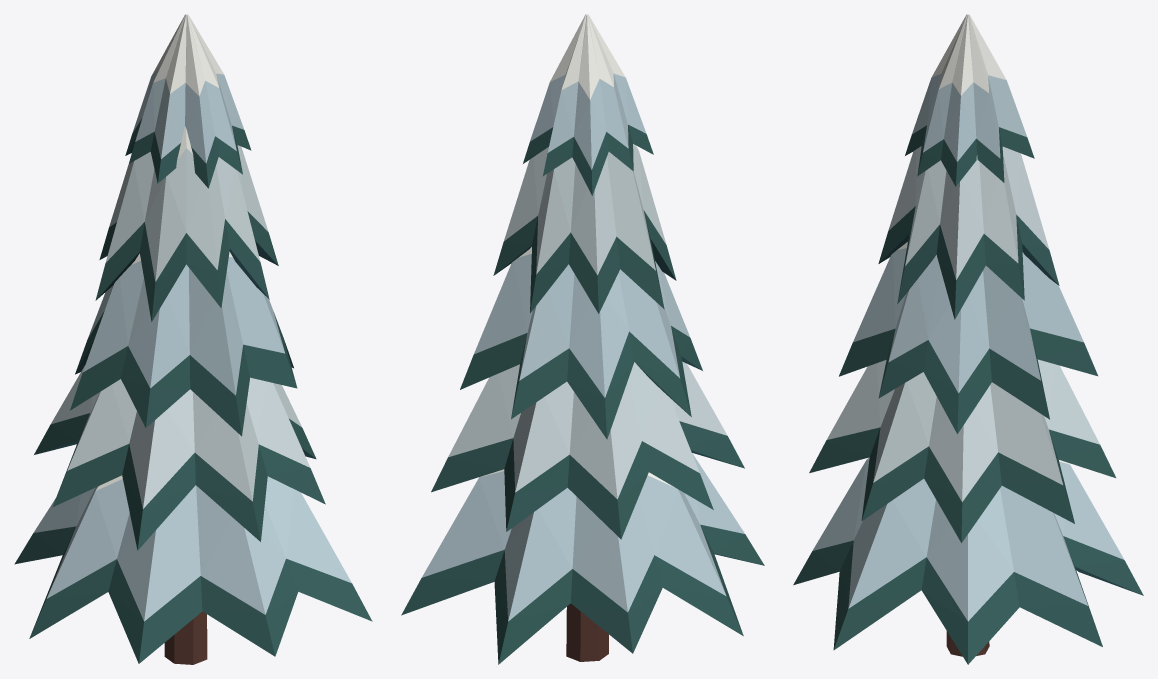
File: SpruceTall.fbx
3 views of the same model, side by side, from view 1: azimuth 30°, elevation 25°; view 2: azimuth 150°, elevation 25°; view 3: azimuth 270°, elevation 25° (orthographic).
Parts seen in each view (by area): view 1: SpruceTall; view 2: SpruceTall; view 3: SpruceTall.
Part boxes in pixels (x1,y1,x2,y2): SpruceTall: (14, 14, 372, 664); SpruceTall: (401, 14, 764, 664); SpruceTall: (793, 14, 1143, 664).
Bounding box in the file's own units: 3.18 × 6.3 × 3.16.
1 material, 1 textured.
